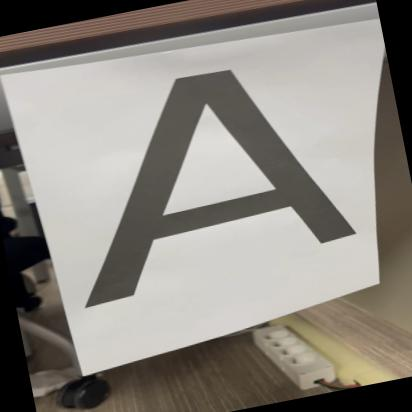seat: (28, 39, 369, 308)
